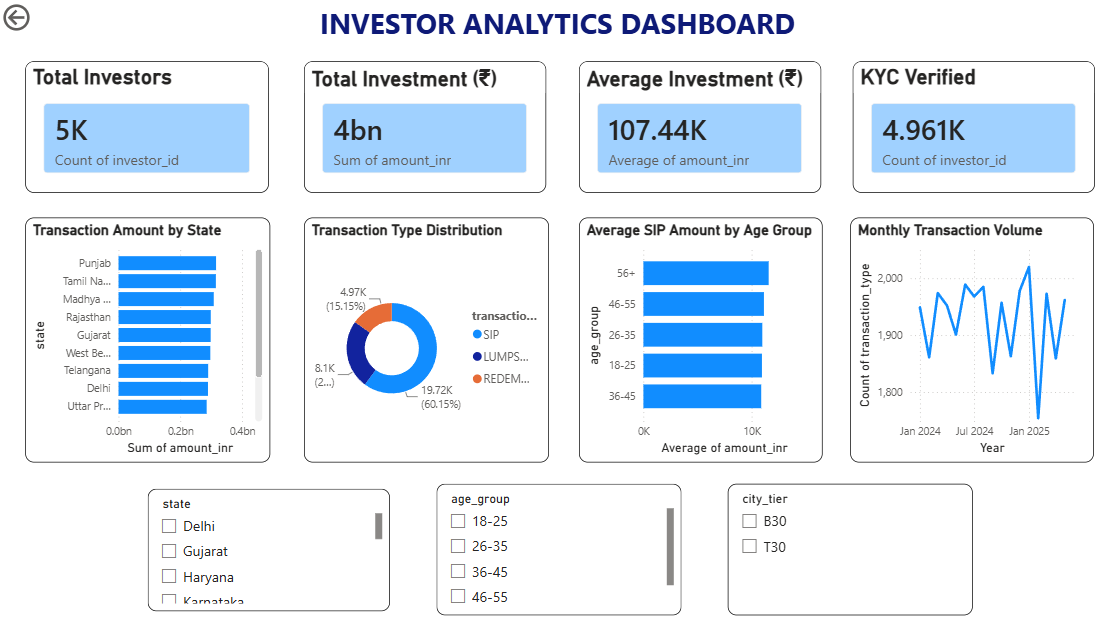

What the dashboard file says about the page in this screenshot:
{"tool":"powerbi","page":{"name":"Investor Analytics","canvas":[1280,720],"ordinal":2},"visuals":[{"type":"clusteredBarChart","title":"Transaction Amount by State","fields":{"Category":["clean_investor_transactions.state"],"Y":["Sum(clean_investor_transactions.amount_inr)"]},"box":[30,248.3,280,280],"z":0},{"type":"donutChart","title":"Transaction Type Distribution","fields":{"Category":["clean_investor_transactions.transaction_type"],"Y":["CountNonNull(clean_investor_transactions.transaction_type)"]},"box":[348.3,248.3,280,280],"z":1000},{"type":"cardVisual","title":"Total Investors","fields":{"Data":["Count(clean_investor_transactions.investor_id)"]},"box":[30,70,278.3,150],"z":2000},{"type":"cardVisual","title":"Total Investment (₹)","fields":{"Data":["Sum(clean_investor_transactions.amount_inr)"]},"box":[348.3,70,276.7,150],"z":3000},{"type":"cardVisual","title":"Average Investment (₹)","fields":{"Data":["Avg(clean_investor_transactions.amount_inr)"]},"box":[663.3,70,276.7,150],"z":4000},{"type":"cardVisual","title":"KYC Verified","fields":{"Data":["Count(clean_investor_transactions.investor_id)"]},"box":[975,70,276.7,150],"z":5000},{"type":"actionButton","box":[0,0,100,40],"z":6000},{"type":"textbox","box":[100,0,1076.7,58.3],"z":7000},{"type":"slicer","fields":{"Values":["clean_investor_transactions.city_tier"]},"box":[833.3,553.3,280,150],"z":8000},{"type":"slicer","fields":{"Values":["clean_investor_transactions.age_group"]},"box":[500,553.3,280,150],"z":9000},{"type":"slicer","fields":{"Values":["clean_investor_transactions.state"]},"box":[170,558.3,276.7,140],"z":10000},{"type":"clusteredBarChart","title":"Average SIP Amount by Age Group","fields":{"Category":["clean_investor_transactions.age_group"],"Y":["Avg(clean_investor_transactions.amount_inr)"]},"box":[663.3,248.3,278.3,280],"z":11000},{"type":"lineChart","title":"Monthly Transaction Volume","fields":{"Y":["CountNonNull(clean_investor_transactions.transaction_type)"],"Category":["clean_investor_transactions.transaction_date.Variation.Date Hierarchy.Year","clean_investor_transactions.transaction_date.Variation.Date Hierarchy.Month"]},"box":[973.3,248.3,278.3,280],"z":12000}]}

Visuals, with their boxes in screenshot pixels (x1, y1, x2, y2), scaled from the page's 1280x720 canvas onto the 1117x630 screenshot:
"Transaction Amount by State" clusteredBarChart: x1=26 y1=217 x2=271 y2=462
"Transaction Type Distribution" donutChart: x1=304 y1=217 x2=548 y2=462
"Total Investors" cardVisual: x1=26 y1=61 x2=269 y2=192
"Total Investment (₹)" cardVisual: x1=304 y1=61 x2=545 y2=192
"Average Investment (₹)" cardVisual: x1=579 y1=61 x2=820 y2=192
"KYC Verified" cardVisual: x1=851 y1=61 x2=1092 y2=192
actionButton: x1=0 y1=0 x2=87 y2=35
textbox: x1=87 y1=0 x2=1027 y2=51
slicer - clean_investor_transactions.city_tier: x1=727 y1=484 x2=972 y2=615
slicer - clean_investor_transactions.age_group: x1=436 y1=484 x2=681 y2=615
slicer - clean_investor_transactions.state: x1=148 y1=489 x2=390 y2=611
"Average SIP Amount by Age Group" clusteredBarChart: x1=579 y1=217 x2=822 y2=462
"Monthly Transaction Volume" lineChart: x1=849 y1=217 x2=1092 y2=462
